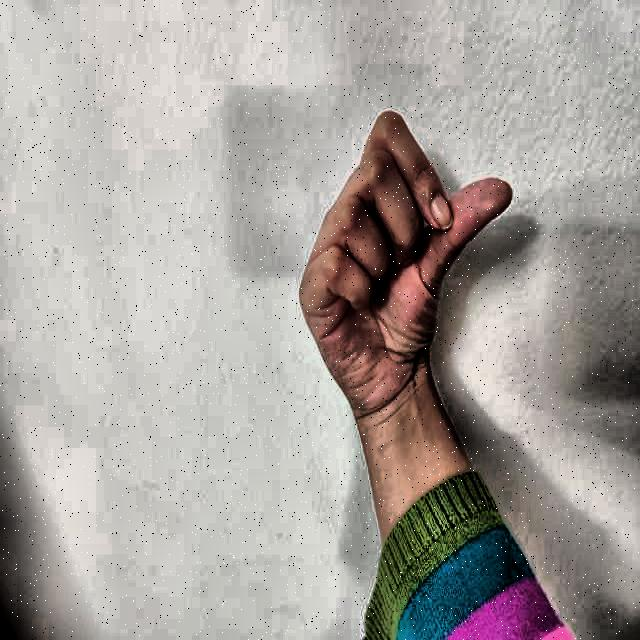Ay: (271, 84, 538, 430)
